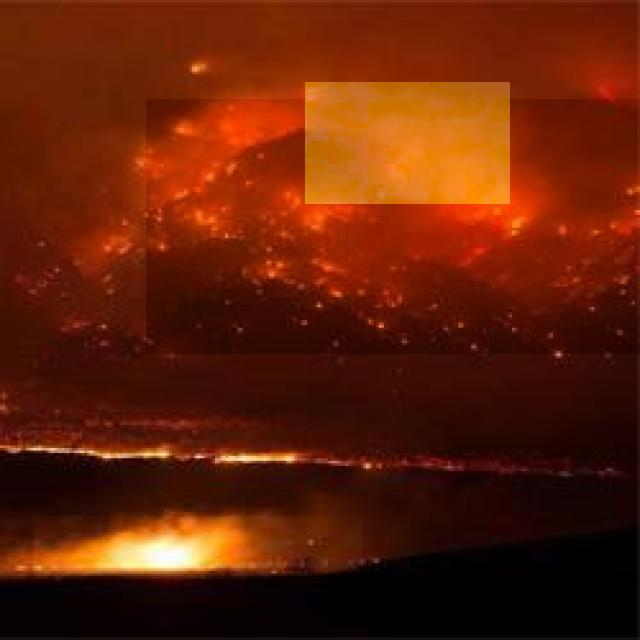Fire: (146, 99, 640, 354), (122, 526, 221, 580)
Smoke: (305, 82, 510, 204), (33, 516, 363, 574)
